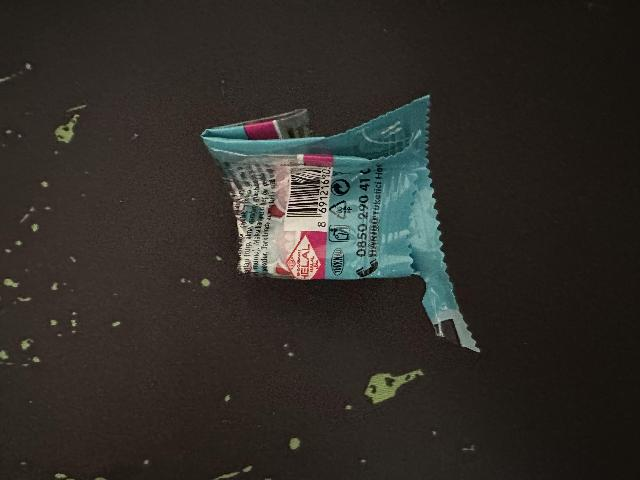Plastik: (203, 89, 484, 356)
